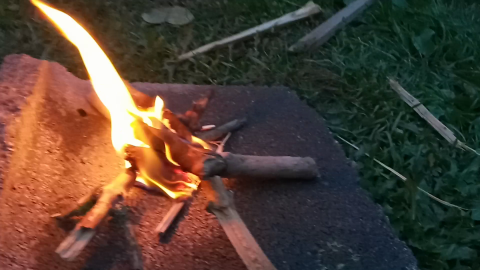fire: (29, 1, 218, 201)
